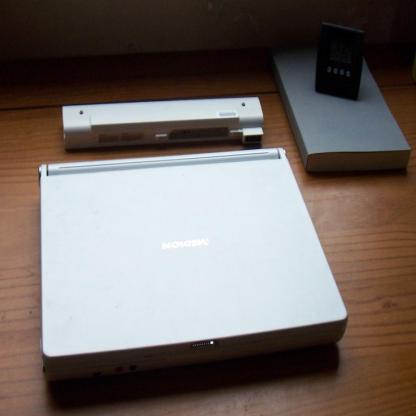board: (38, 144, 348, 382)
